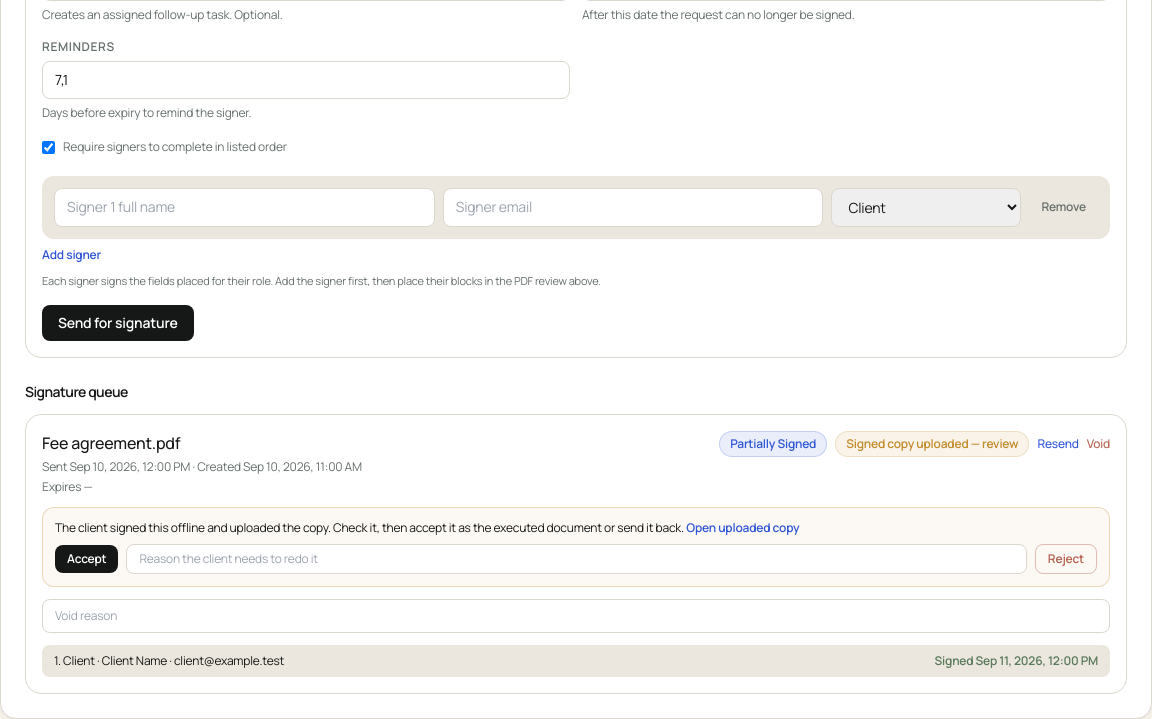
Test case: requires a reason to reject an uploaded signed copy and sends it
The width and height of the screenshot is (1152, 719).
(page scrolled)
Click the button "Reject" at (1066, 559), box [1035,544,1097,574]
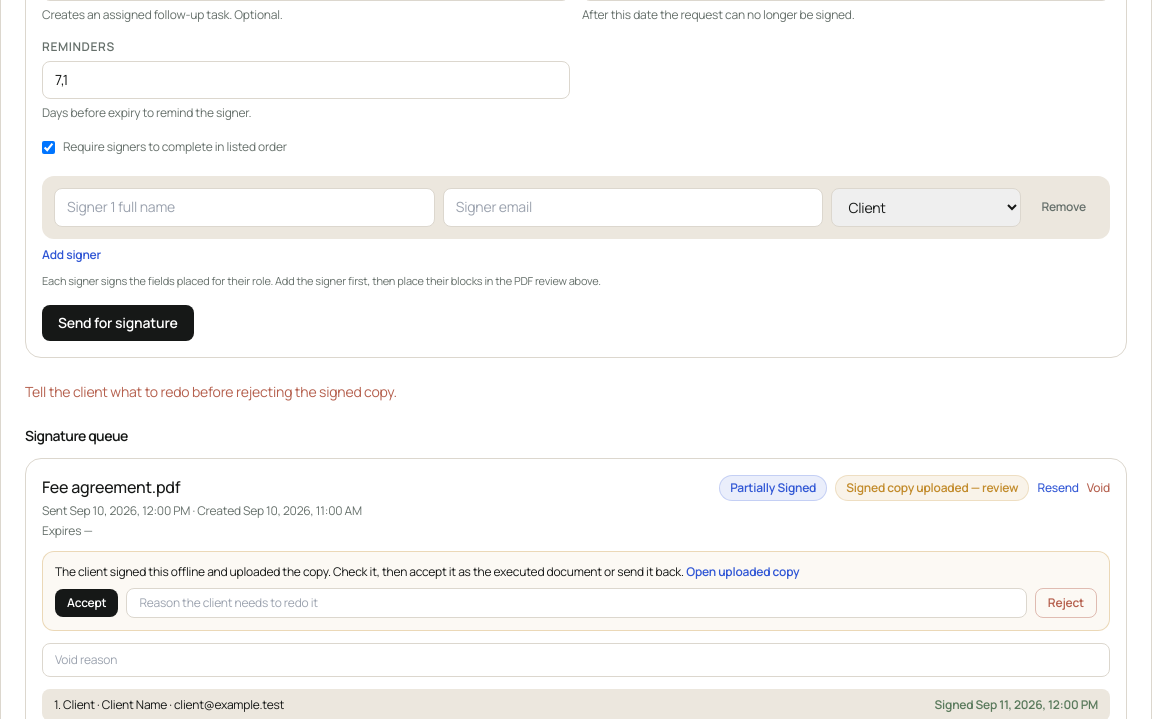
Now the text "Tell the client what to redo" is shown, box [25,382,397,401]
Type "Page 2 was not initialed" into the field named "Rejection reason" at (577, 603), box [126,588,1027,618]
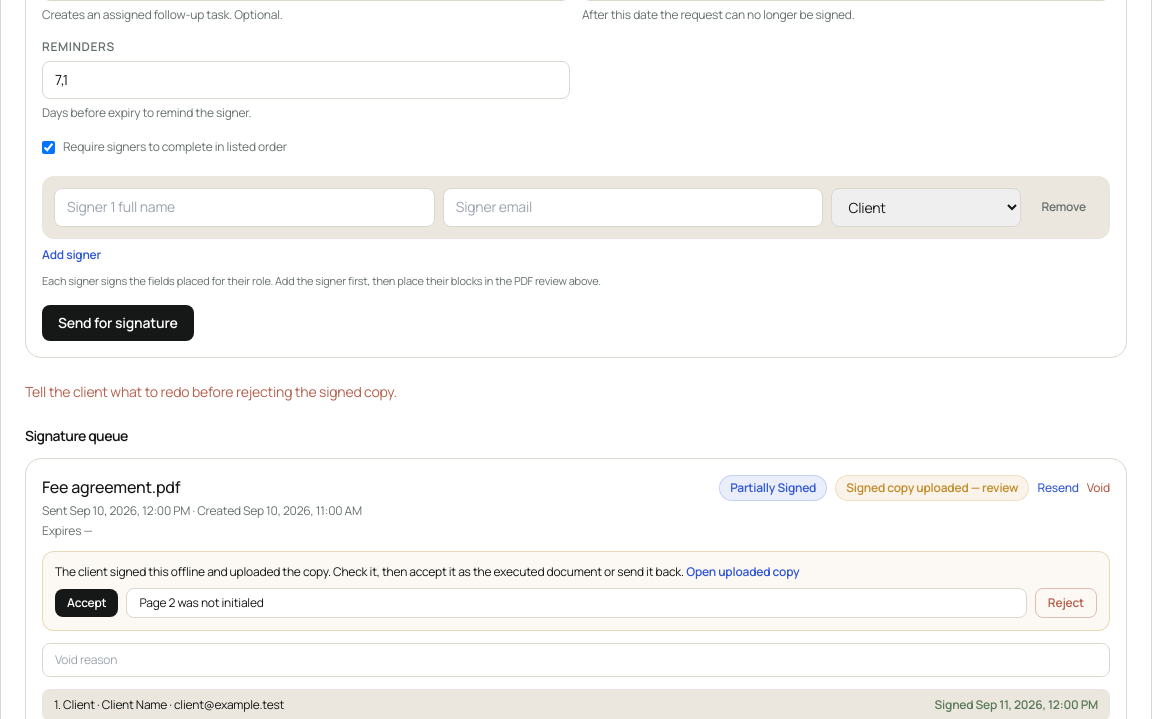
Click the button "Reject" at (1066, 603), box [1035,588,1097,618]
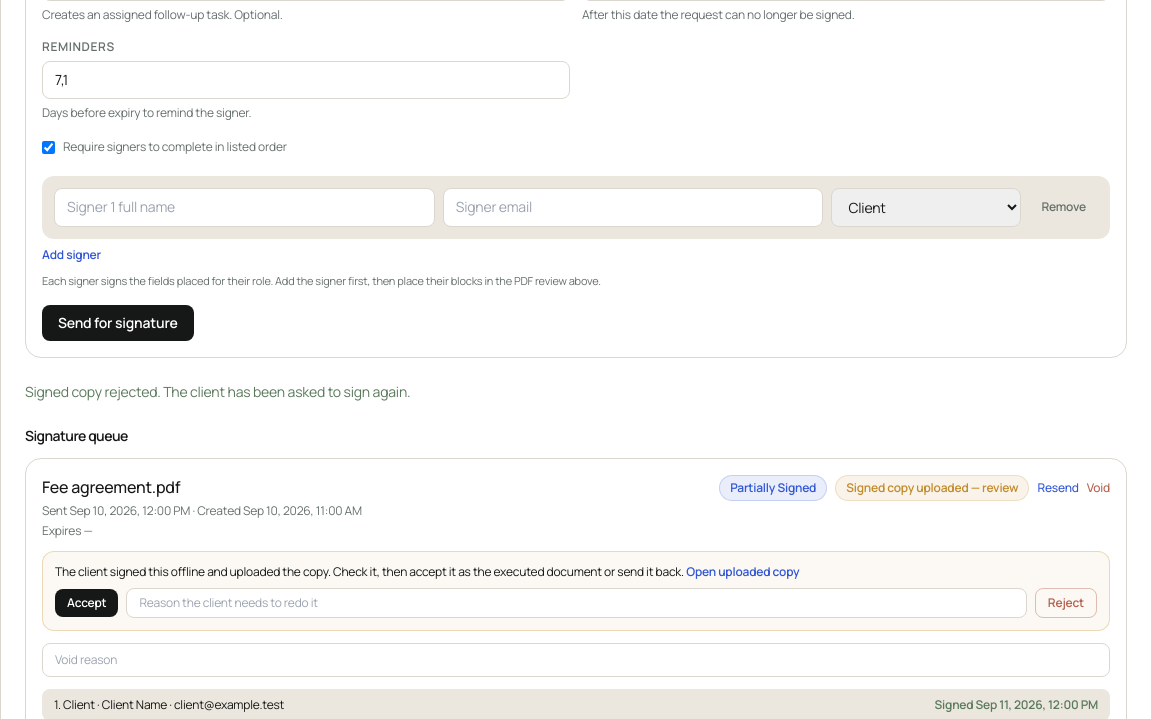
Now the text "Signed copy rejected. The client has been asked to sign again." is shown, box [25,382,410,401]
